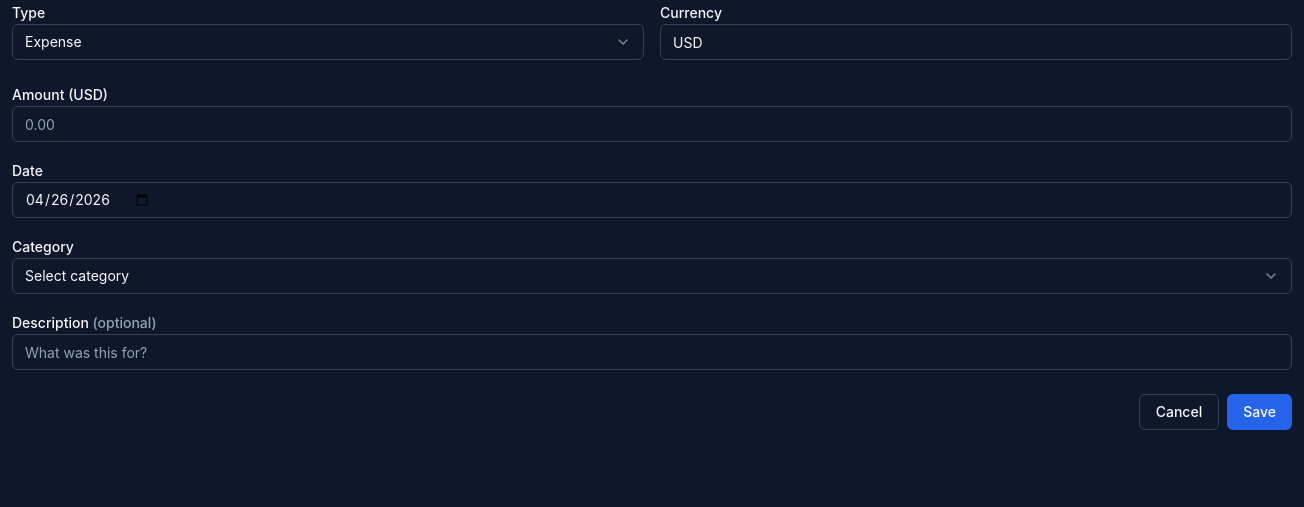
Scenario: TransactionForm › errors are associated via aria-describedby
The image size is (1304, 507).
In the field labelled "Currency": (976, 42) [660,24,1292,60], type "x"
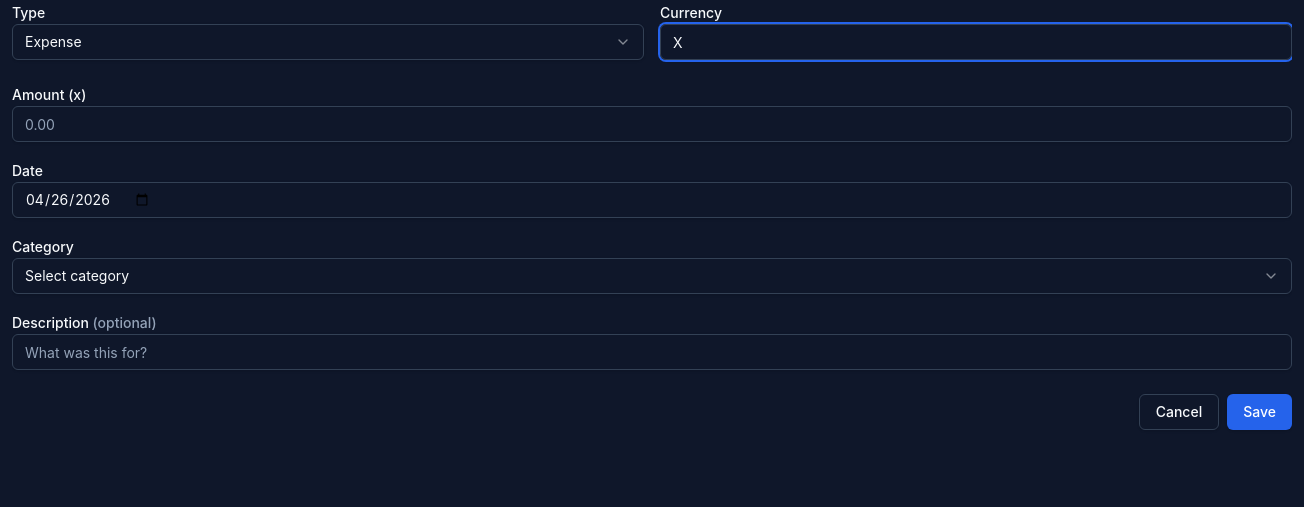
Click the button "Save": (1260, 412) [1227,394,1292,430]
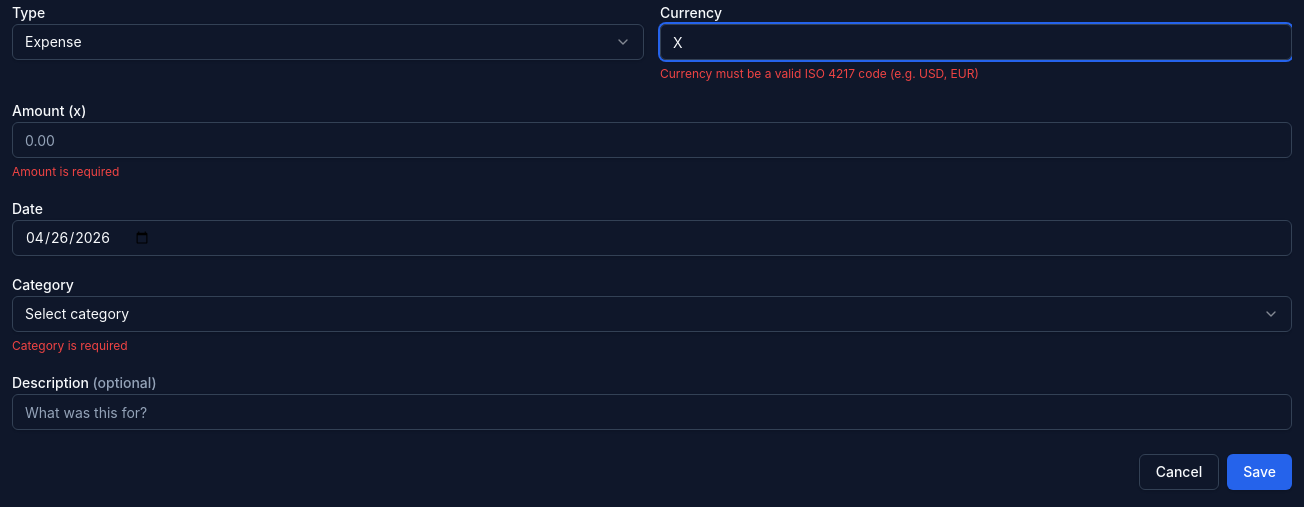
Check: the text "Currency must be a valid ISO 4217 code (e.g. USD, EUR)" is shown, box [660,66,979,81]
